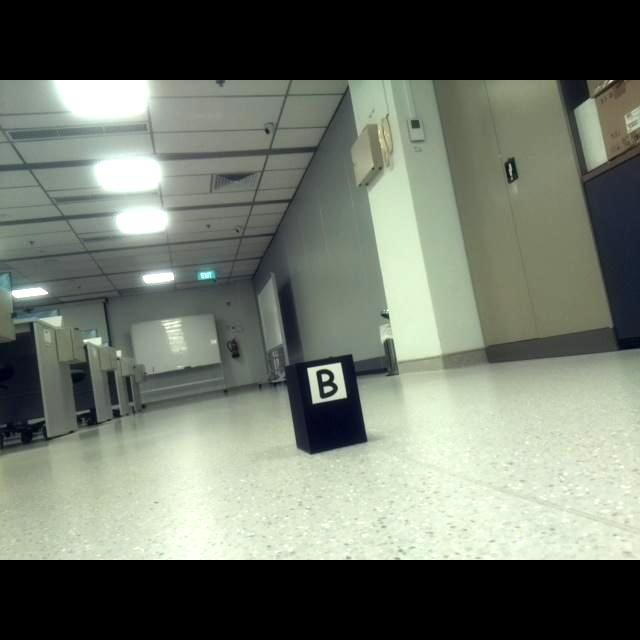B: (315, 369, 338, 399)
